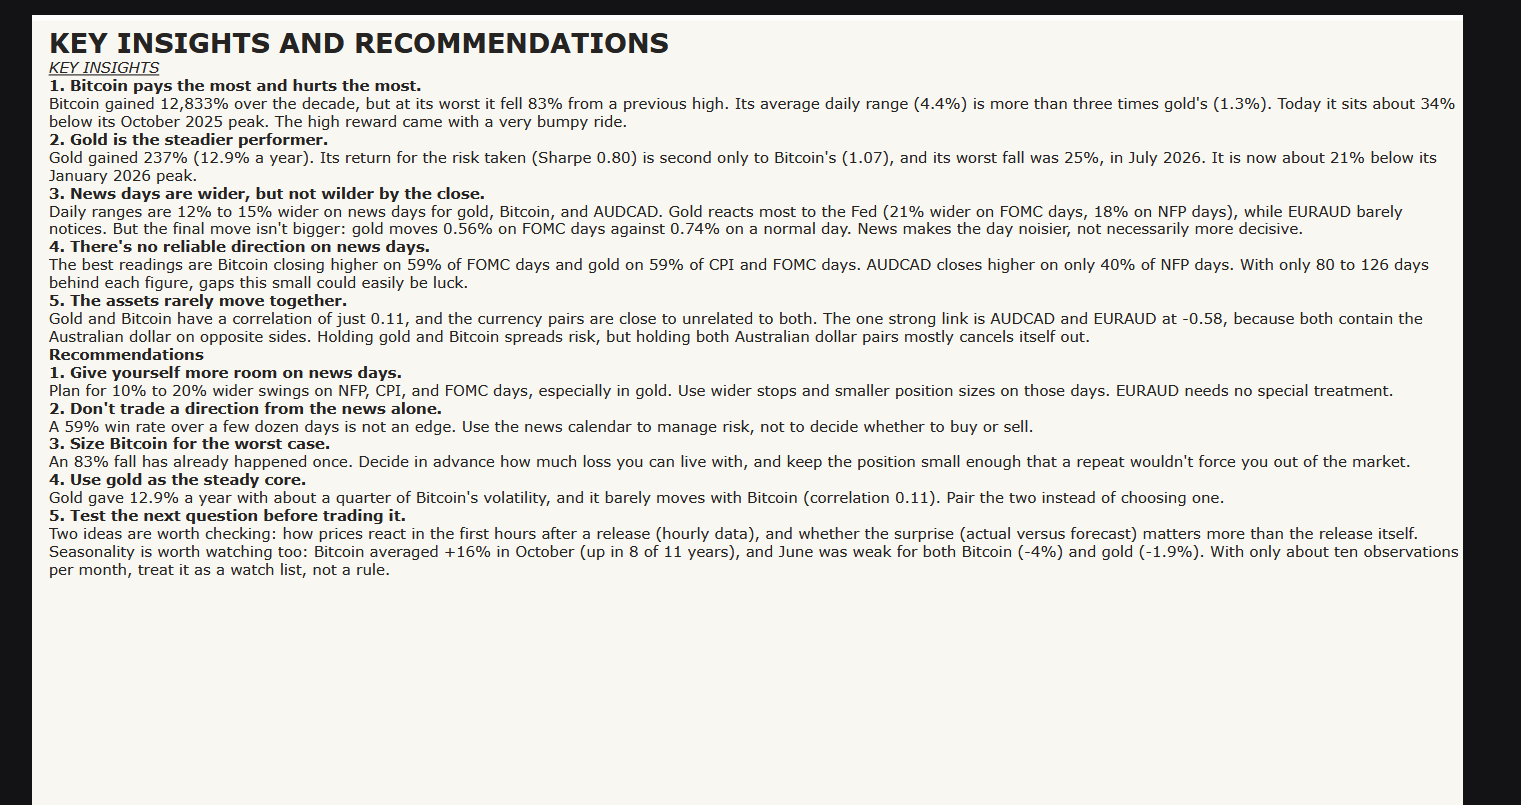

Layout of this report page (visuals, bound fields, positions):
{"tool":"powerbi","page":{"name":"insights and recommendations","canvas":[1280,720],"ordinal":2},"visuals":[{"type":"textbox","box":[10.3,0,1269.2,702.5],"z":0}]}

Visuals, with their boxes on the page's 1280x720 design canvas (x1, y1, x2, y2). These are canvas units, not pixel positions in the 1521x805 screenshot, which may show the page scaled, cropped or inside an application window:
textbox: [10, 0, 1280, 702]
